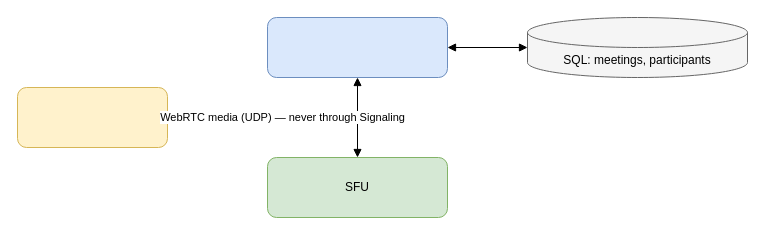
This 765x235 diagram has some shape labels left out. The box of each missing label's shape, as (x1, y1, x2, y2) in pixels:
Participant: (16, 86, 168, 148)
Signaling Service: (266, 16, 448, 78)
